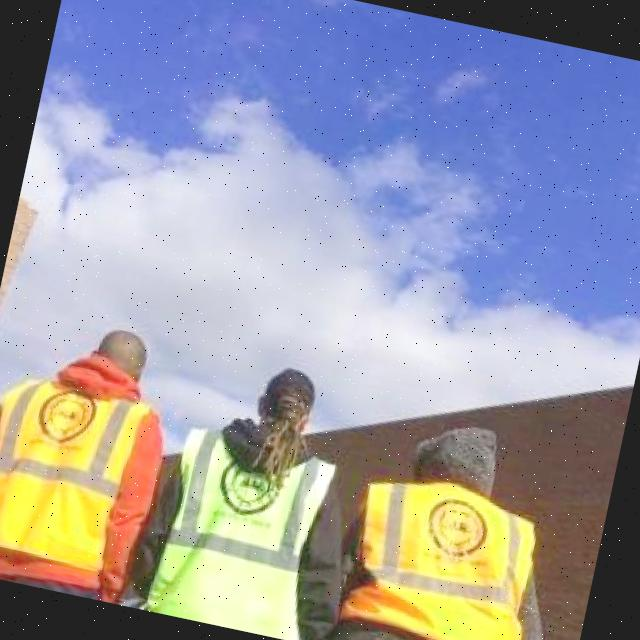vest: (339, 436, 572, 640), (139, 425, 331, 640), (0, 353, 147, 593)
